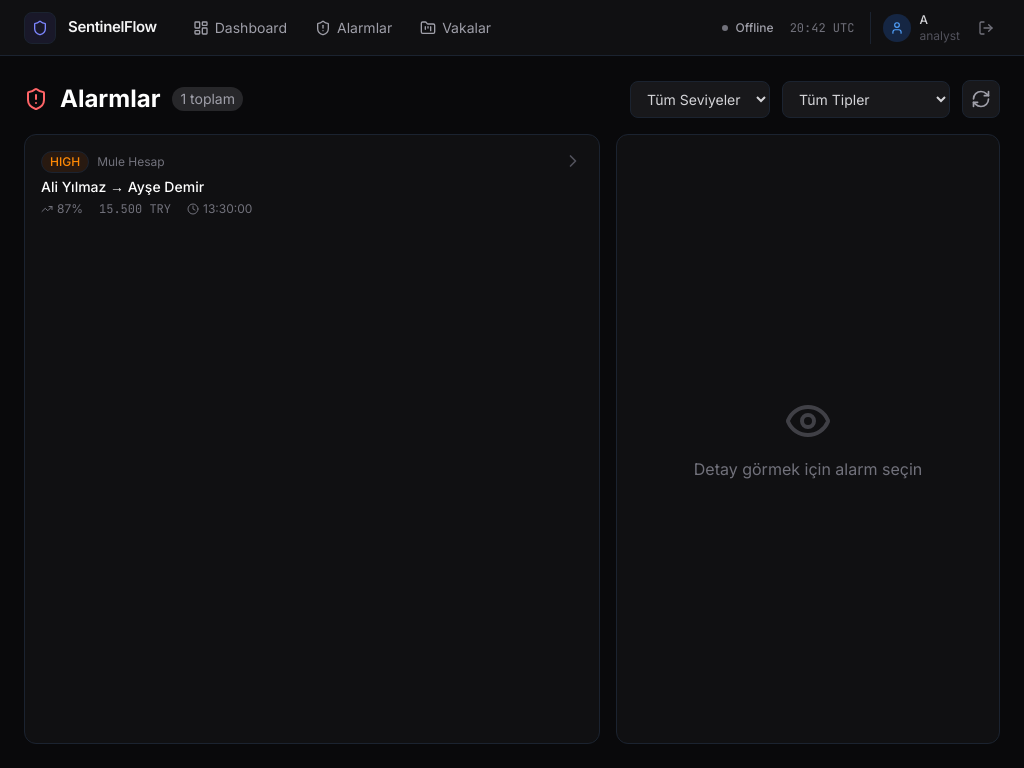
Test: Alarmdan vaka akışı › açık vakaları listeler ve seçilen vakaya alarmı bağlar
This screenshot has width=1024, height=768.
Click the text "Ali Yılmaz → Ayşe Demir" at [123, 186], box x1=41 y1=178 x2=204 y2=195
(page scrolled)
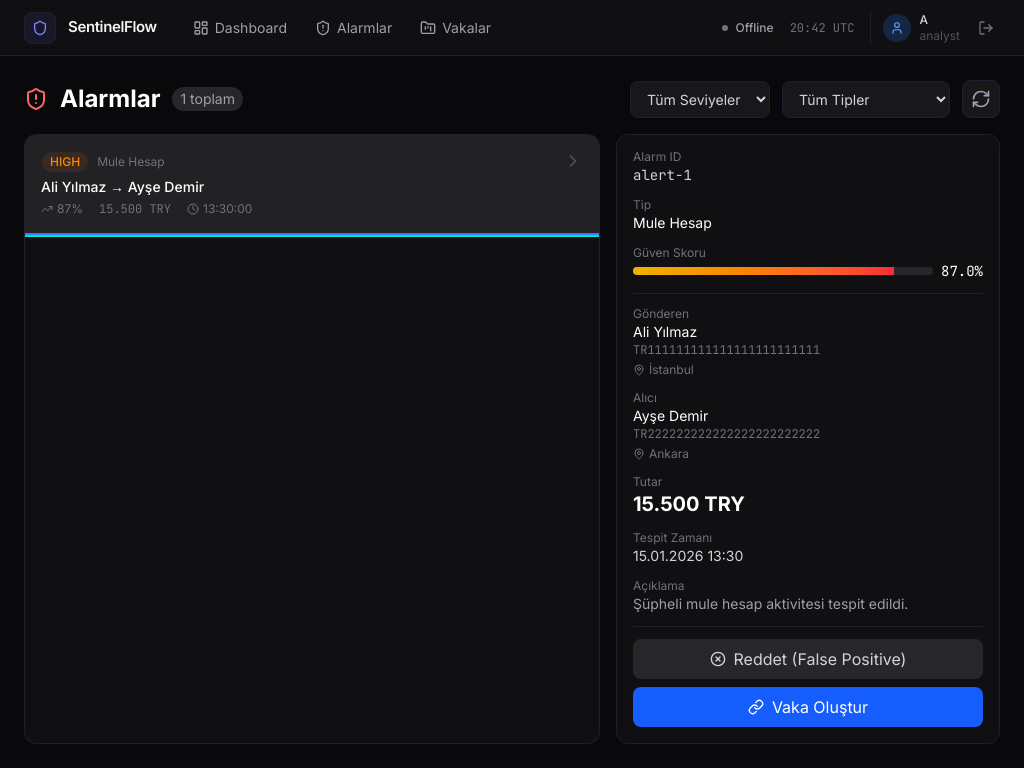
Click the button "Vaka Oluştur" at [808, 707], box x1=633 y1=687 x2=983 y2=727
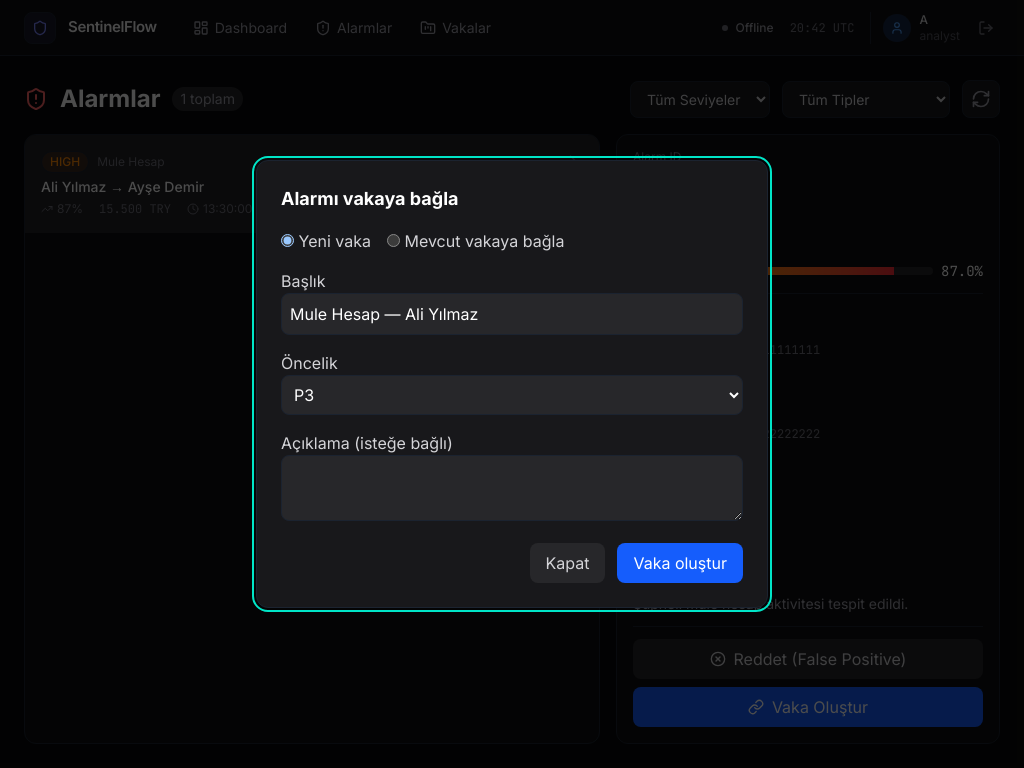
Click the radio button labelled "Mevcut vakaya bağla" at [394, 240], box x1=387 y1=234 x2=400 y2=247
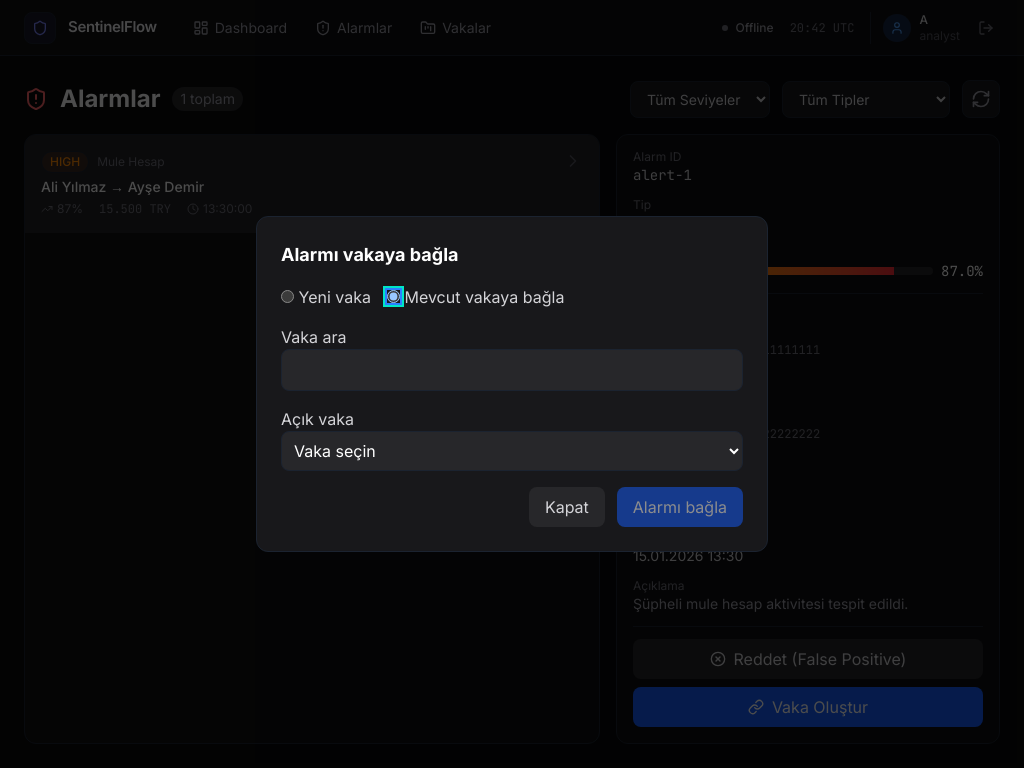
Select "CASE-123 — İnceleme" in the dropdown labelled "Açık vaka" at [512, 451], box x1=281 y1=431 x2=743 y2=471
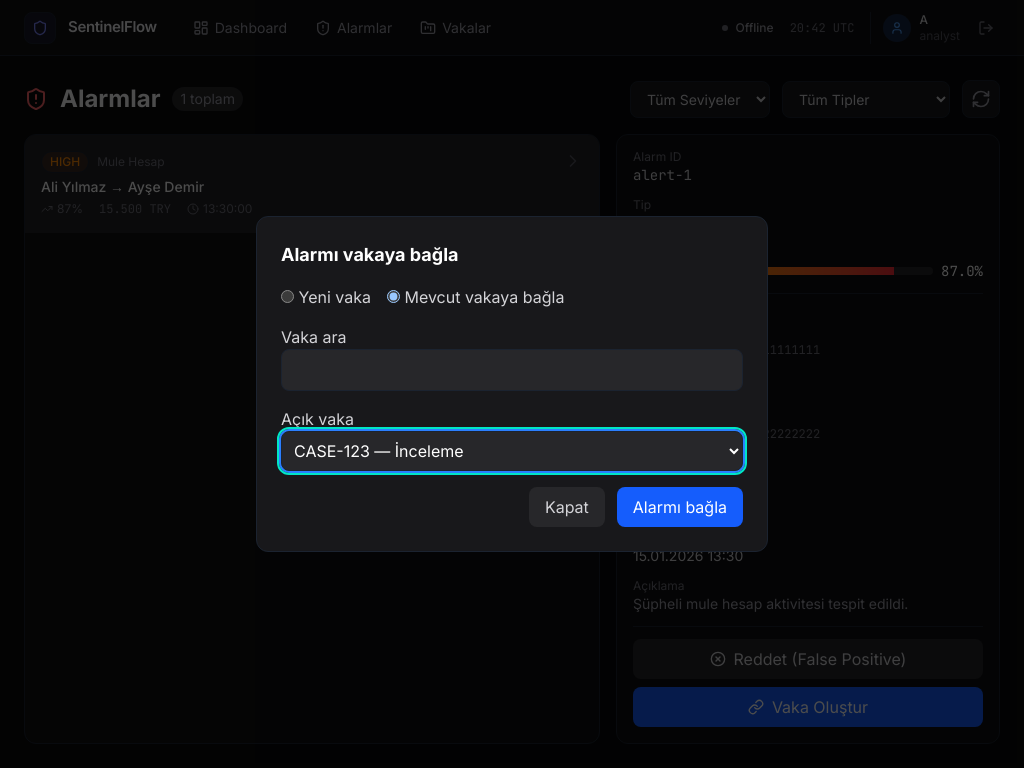
Click the button "Alarmı bağla" at [680, 507], box x1=617 y1=487 x2=743 y2=527
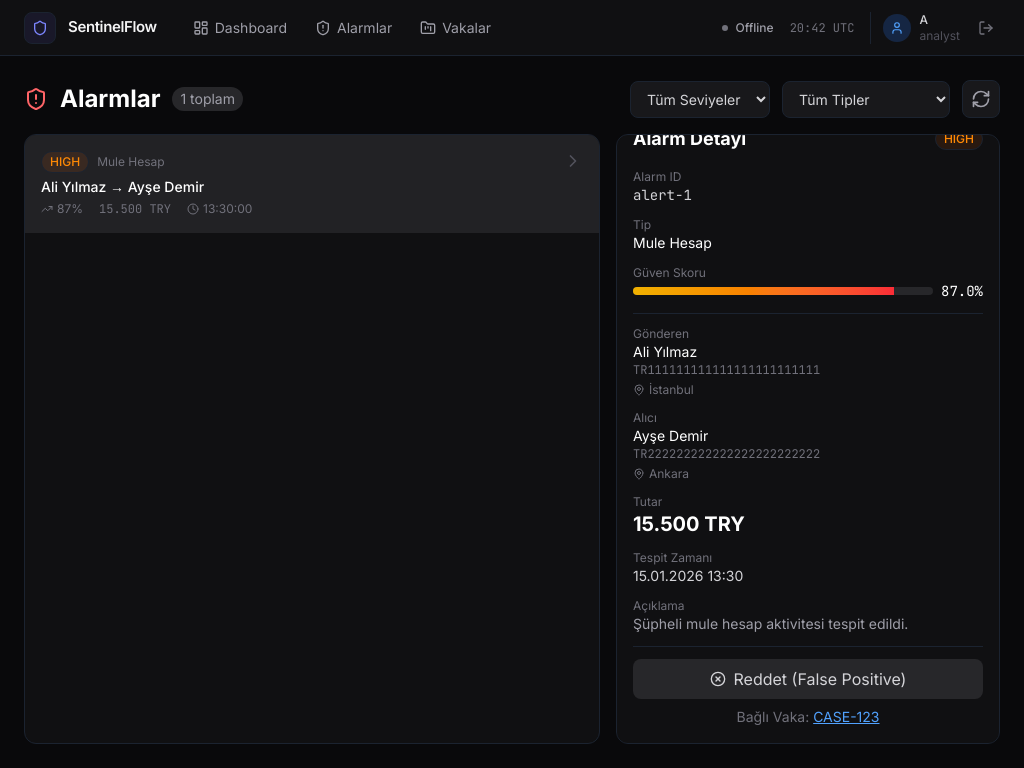
Expected: the dialog is gone
Expected: the link "CASE-123" is shown, x1=813 y1=708 x2=880 y2=725
